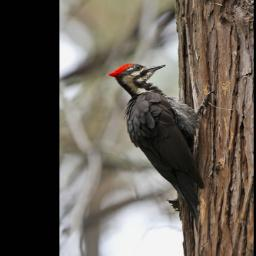Woodpecker: (107, 63, 216, 233)
